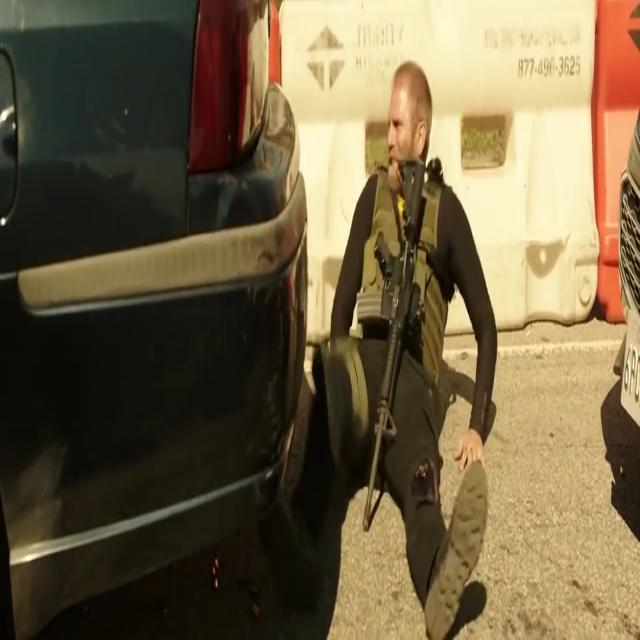Weapon: (369, 164, 425, 543)
